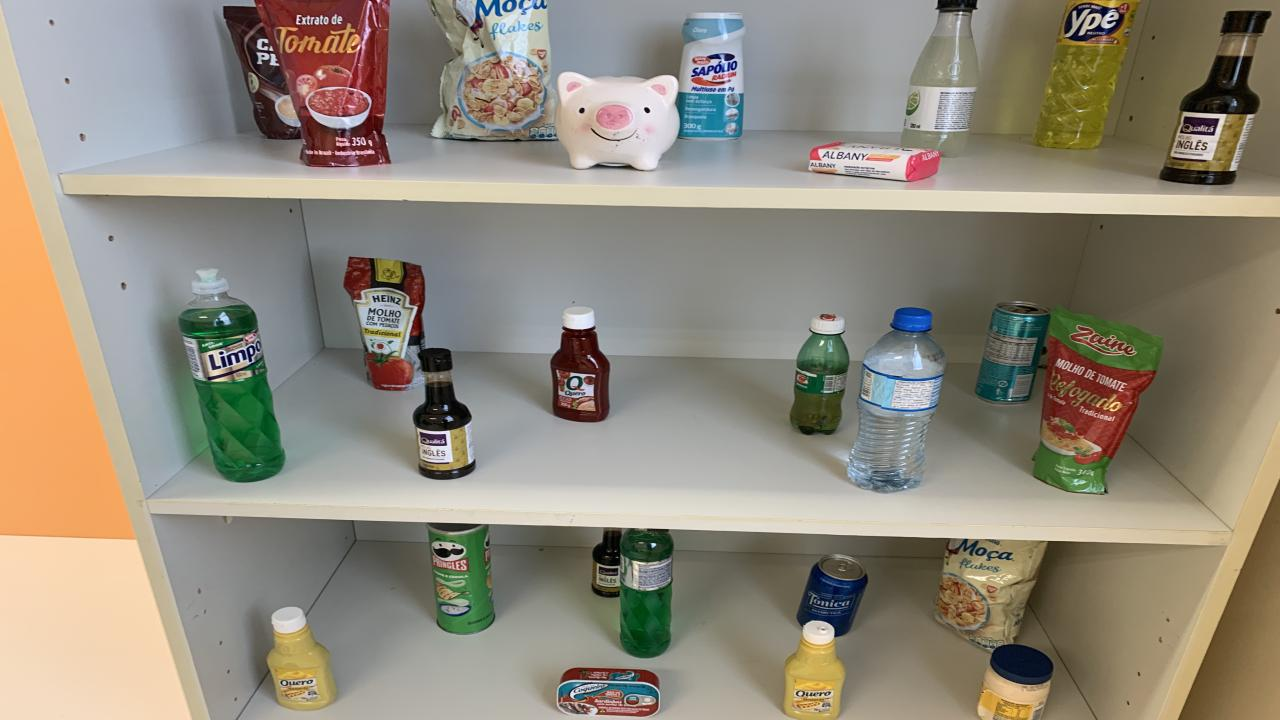Cleaner-Cleanup_Items: (678, 11, 745, 141)
Coffee-Pantry_Items: (222, 6, 300, 139)
Detergent-Cleanup_Items: (178, 270, 285, 482), (1035, 0, 1140, 148), (620, 529, 675, 658)
English_Sauce-Pantry_Items: (1160, 11, 1270, 184), (412, 347, 475, 480), (592, 529, 622, 598)
Flakes-Snacks: (430, 0, 555, 141), (935, 538, 1048, 651)
Guarana-Drinks: (790, 315, 850, 435)
Ketchup-Pantry_Items: (550, 308, 610, 422)
Mayonnaise-Pantry_Items: (978, 645, 1052, 720)
Mustard-Pantry_Items: (268, 608, 338, 711), (782, 621, 845, 720)
Pig_Safe-Miscellaneous: (555, 71, 680, 171)
Pringles-Snacks: (428, 523, 495, 634)
Soap-Cleanup_Items: (810, 142, 940, 182)
Soda-Drinks: (900, 0, 980, 158)
Tea-Drinks: (975, 302, 1050, 403)
Tomato_Sauce-Pantry_Items: (1032, 306, 1162, 493), (255, 0, 390, 167), (342, 257, 425, 390)
Tonic-Drinks: (798, 555, 868, 636)
Tuna_Can-Pantry_Items: (555, 668, 660, 716)
Water_Bottle-Drinks: (848, 308, 945, 493)
